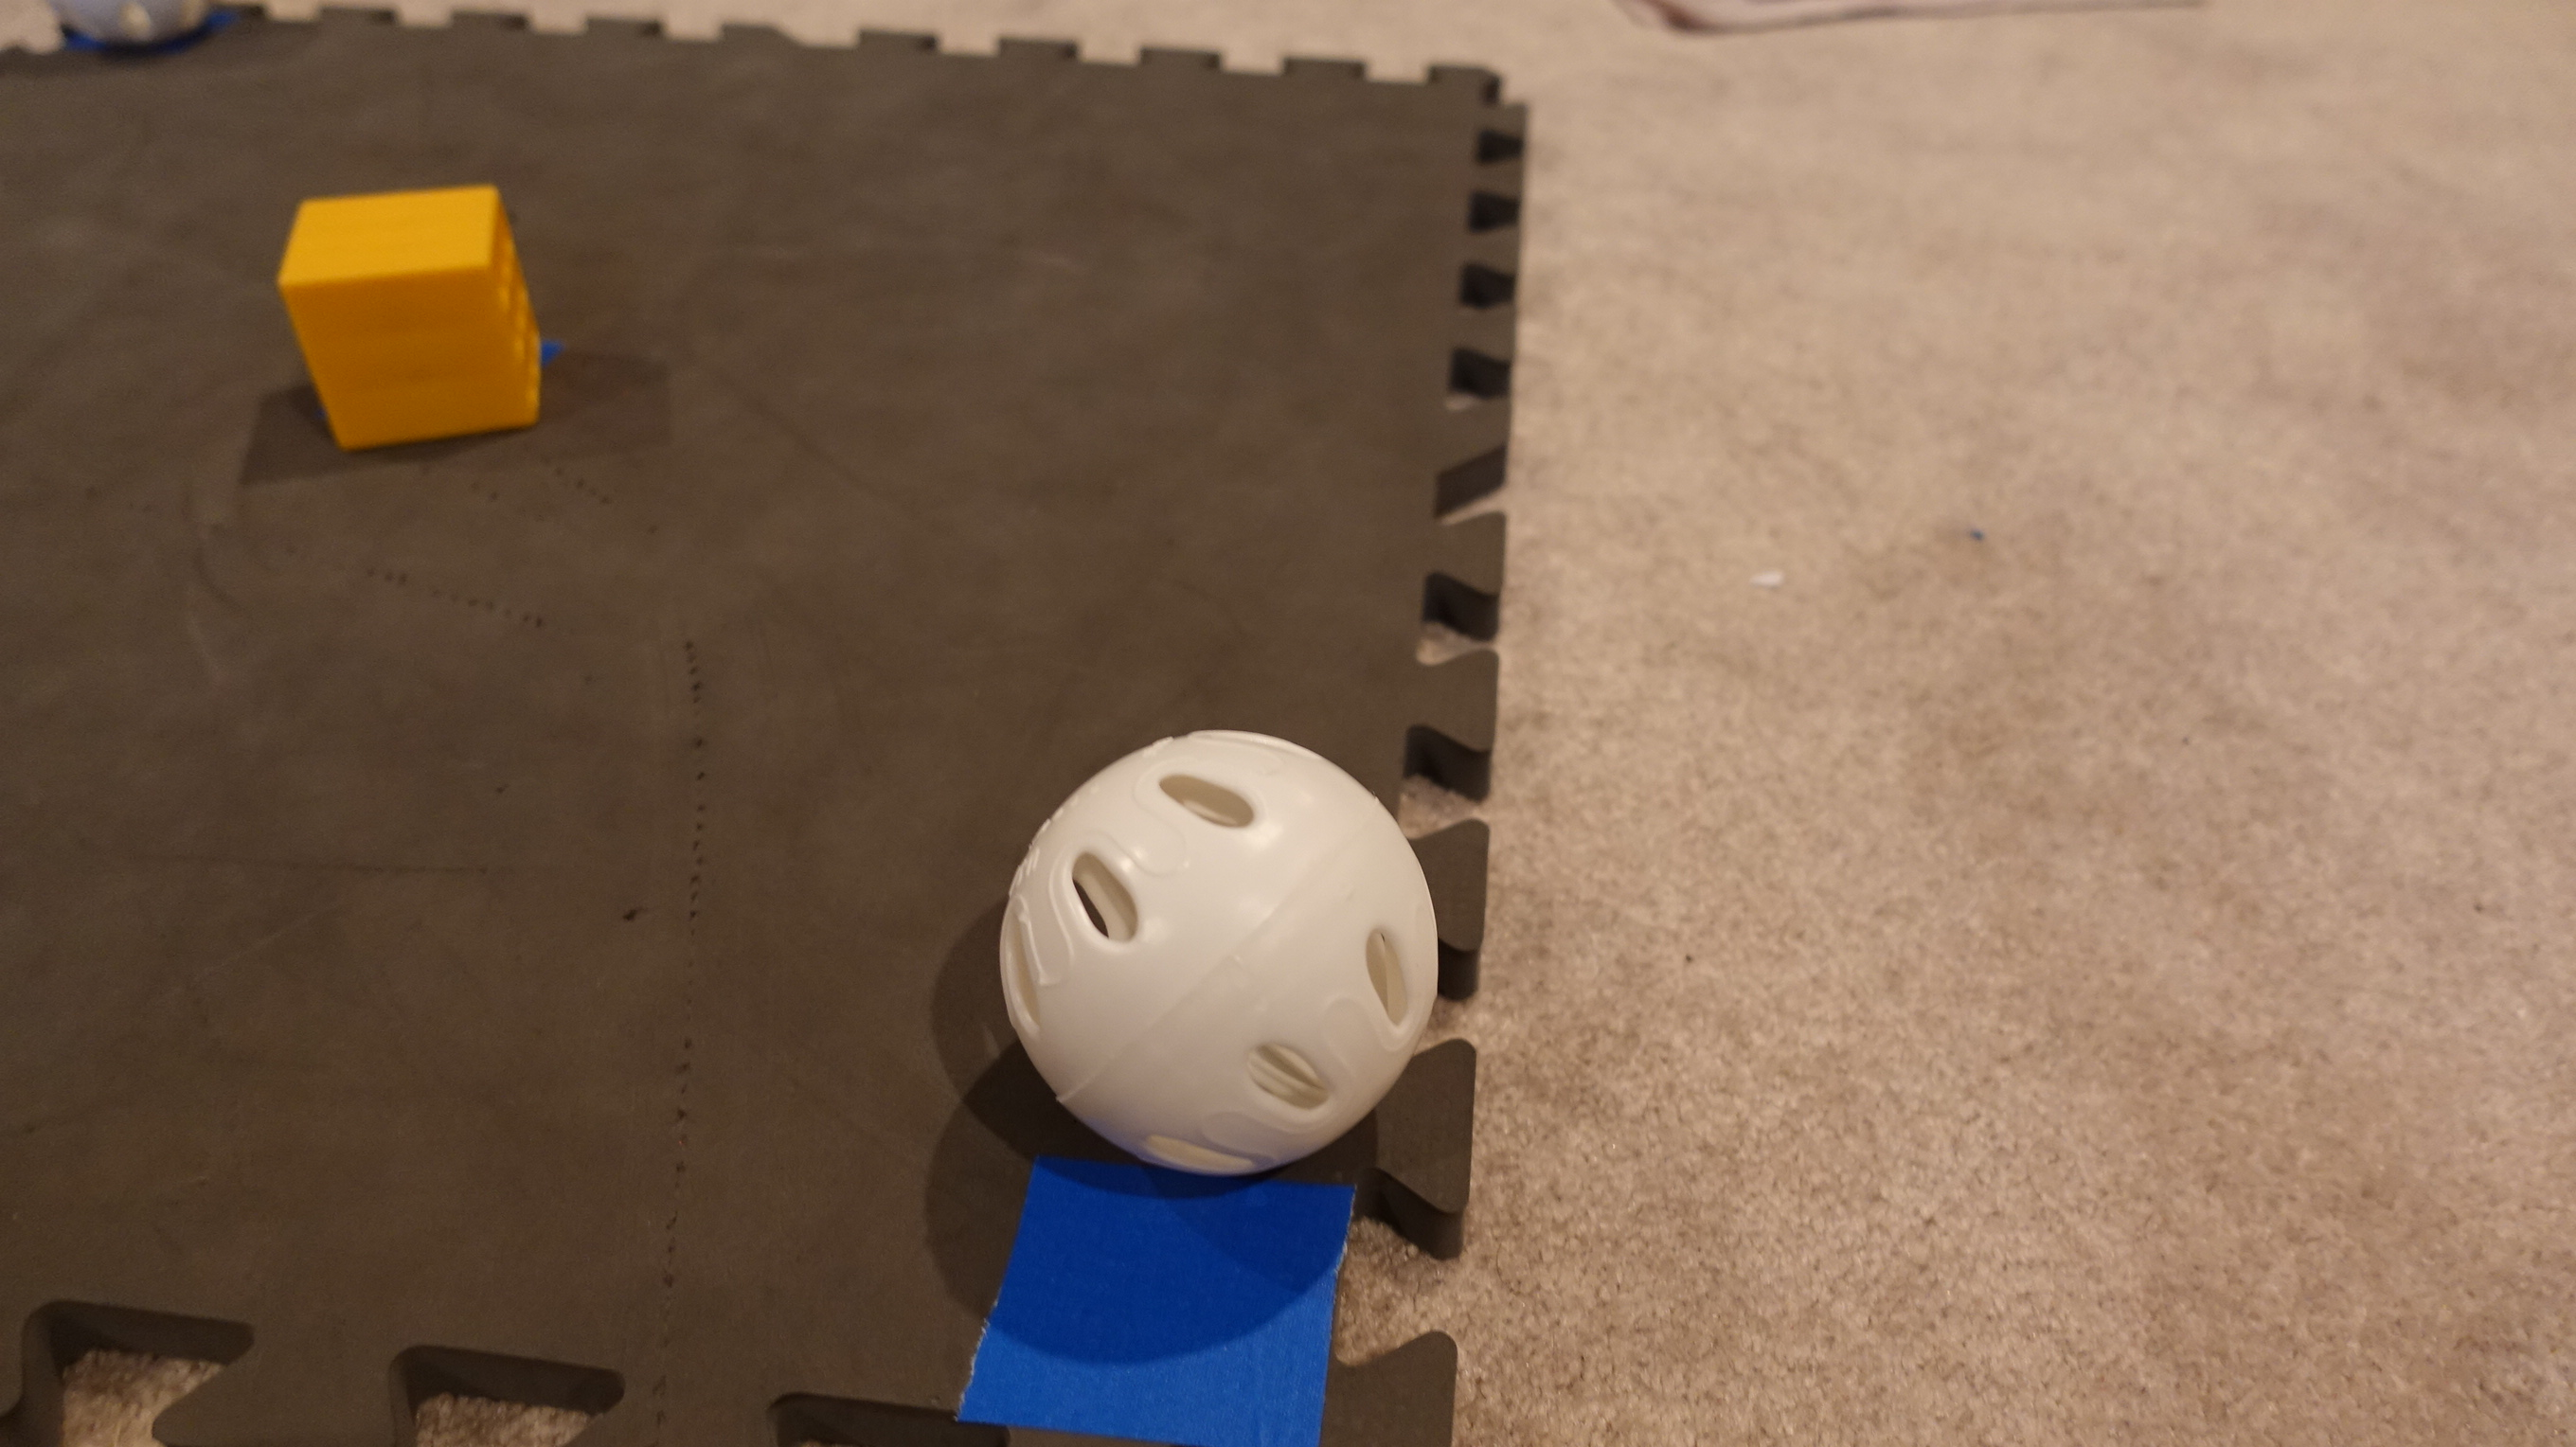gold: (253, 165, 570, 455)
silver: (991, 722, 1447, 1187), (37, 2, 226, 73)
